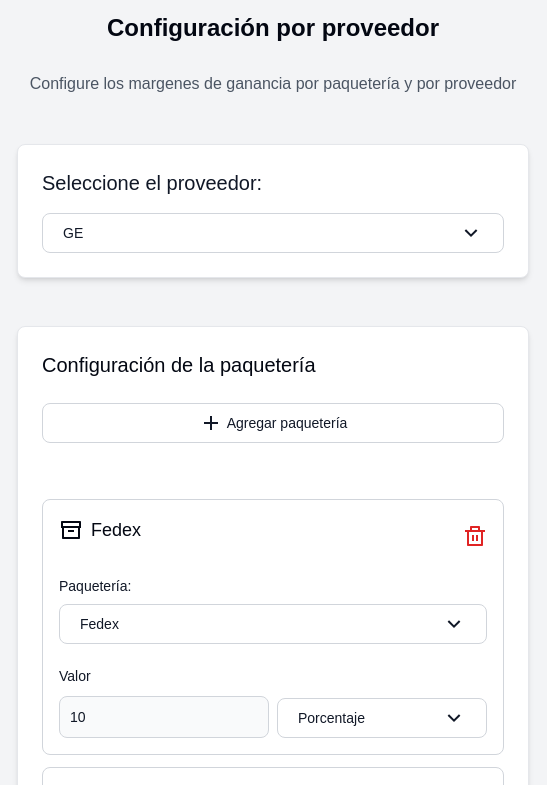
Test: ProfitMarginForm › Given the form has validation errors › When courier forms are removed, Then the empty state is shown
The image size is (547, 785).
Expected: the heading "Fedex" is shown, left=91, top=516, right=141, bottom=544
// Remove the courier form - find the remove button by data-testid
Click the button with test id "remove-courier" at (475, 536), box left=463, top=516, right=487, bottom=556
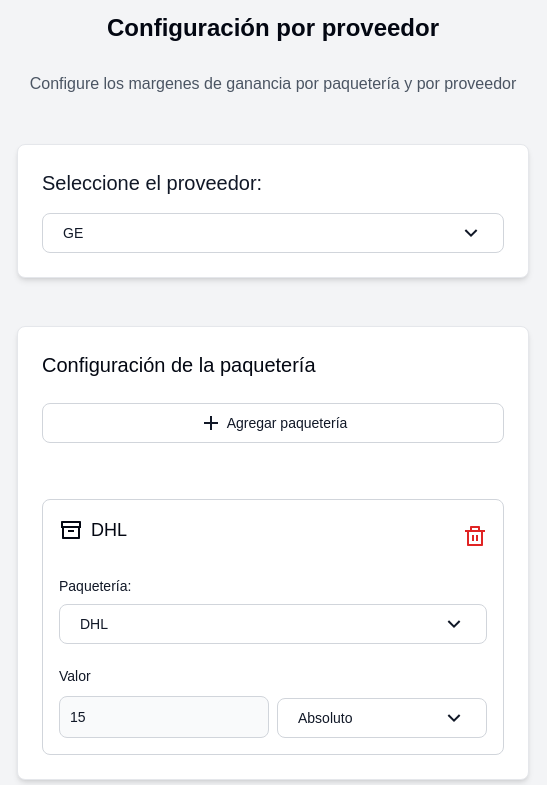
Click the button with test id "remove-courier" at (475, 536), box left=463, top=516, right=487, bottom=556
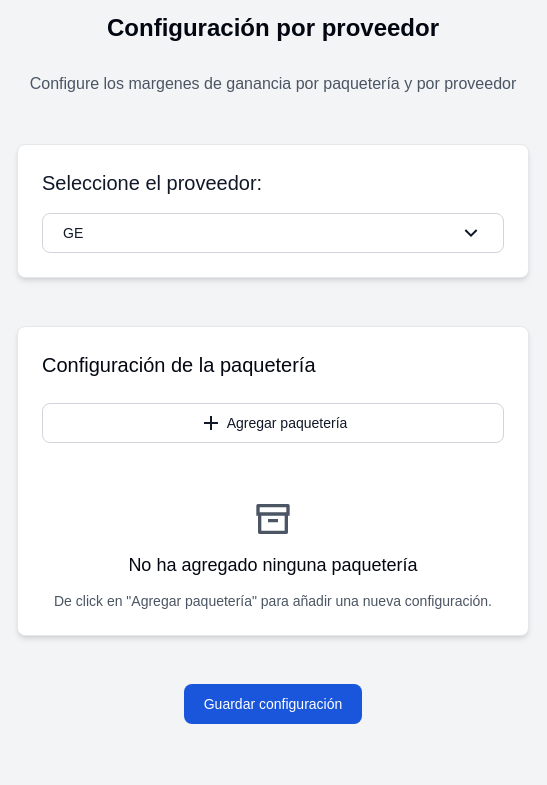
Expected: the text "No ha agregado ninguna paquetería" is shown, left=128, top=551, right=418, bottom=579
